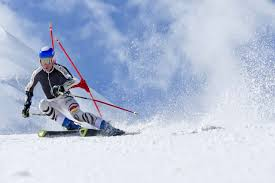skis: (41, 128, 145, 138)
